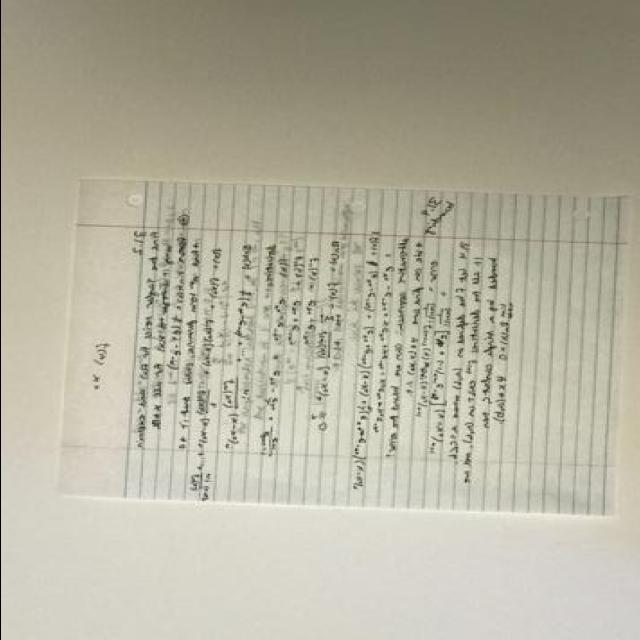kertas: (50, 175, 636, 520)
